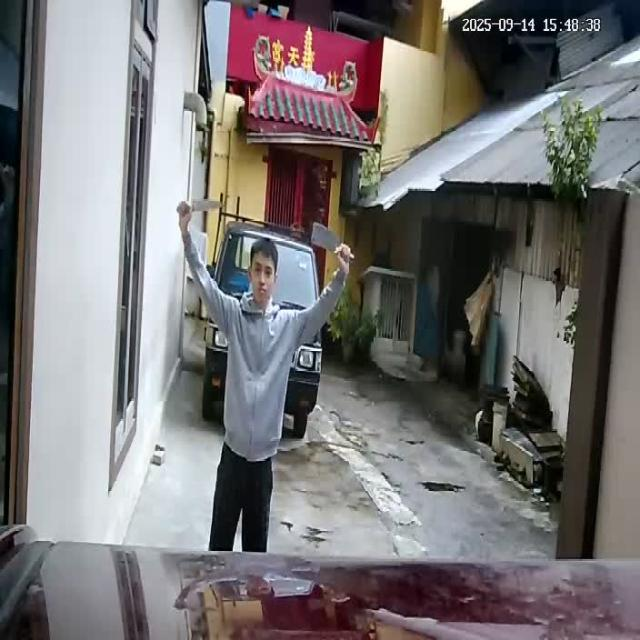senjata_tajam: (308, 222, 339, 254), (188, 195, 230, 215)
